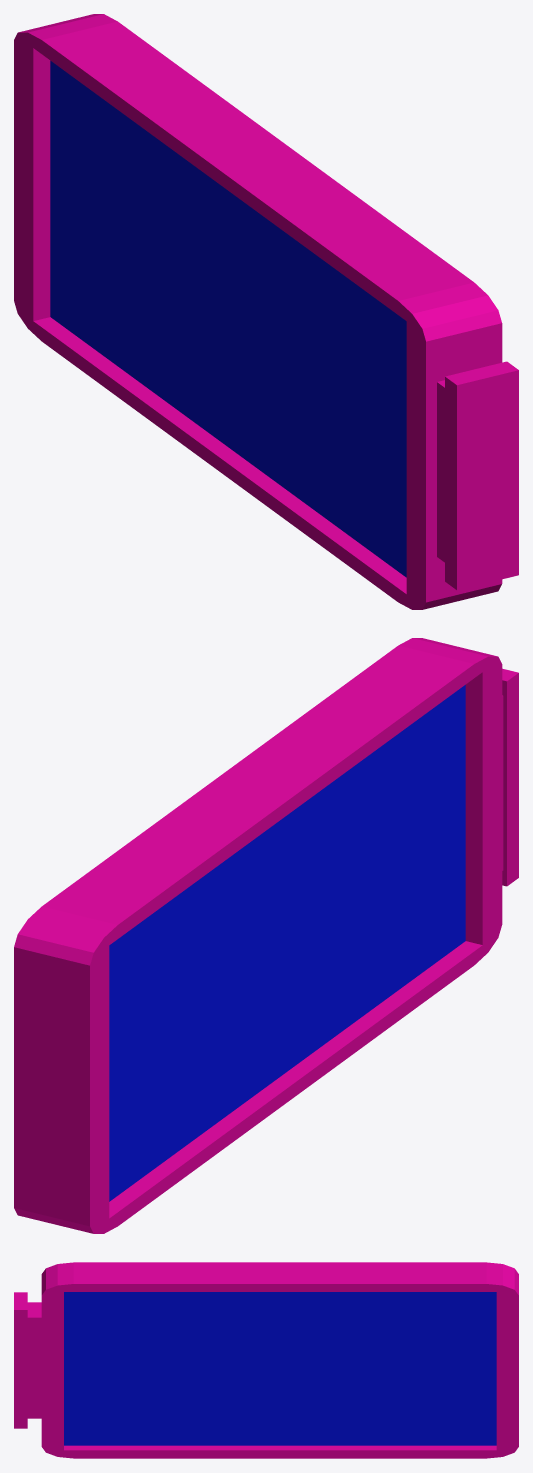
Rendered from gate.fbx.
3 views of the same model, one above another, from view 1: azimuth 30°, elevation 25°; view 2: azimuth 150°, elevation 25°; view 3: azimuth 270°, elevation 25° (orthographic). The views are drawn at different scales.
Visible parts, largest first — view 1: gate; view 2: gate; view 3: gate.
Part boxes in pixels (x1=…): gate: x1=14, y1=14, x2=518, y2=609; gate: x1=14, y1=638, x2=518, y2=1233; gate: x1=14, y1=1262, x2=518, y2=1458.
Bounding box in the file's own units: 21.31 × 80.72 × 212.
